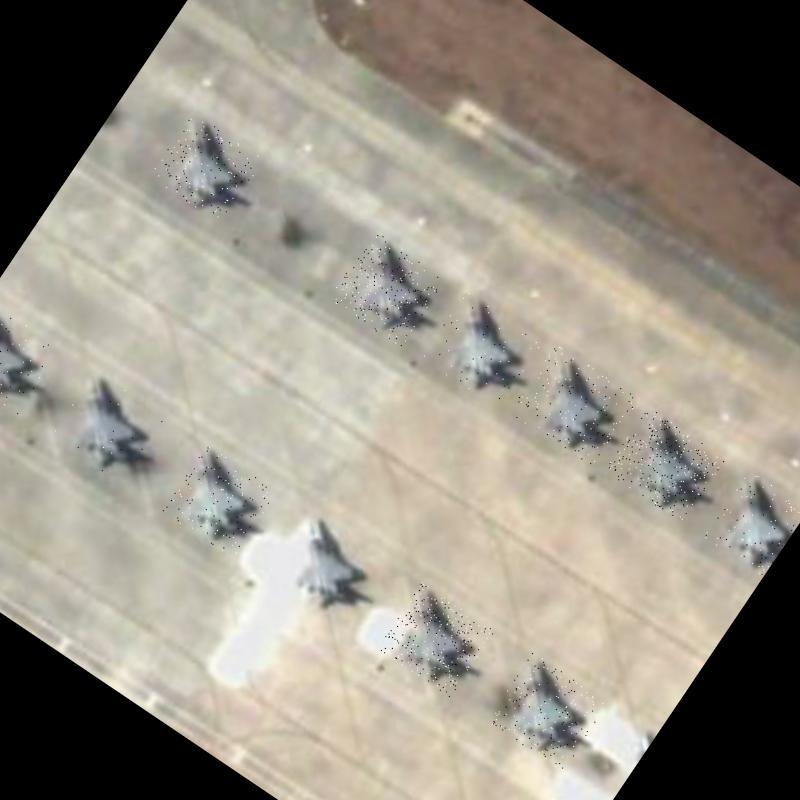A13: (508, 343, 639, 470), (420, 290, 544, 410), (486, 652, 609, 772), (46, 368, 168, 487), (604, 407, 726, 524), (328, 231, 447, 348), (268, 511, 386, 628), (377, 582, 495, 698), (161, 444, 278, 560), (147, 110, 264, 224), (701, 468, 800, 577), (0, 299, 63, 420)
